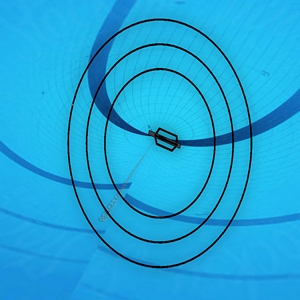circle: (66, 18, 253, 267)
submarine: (147, 127, 179, 153)
